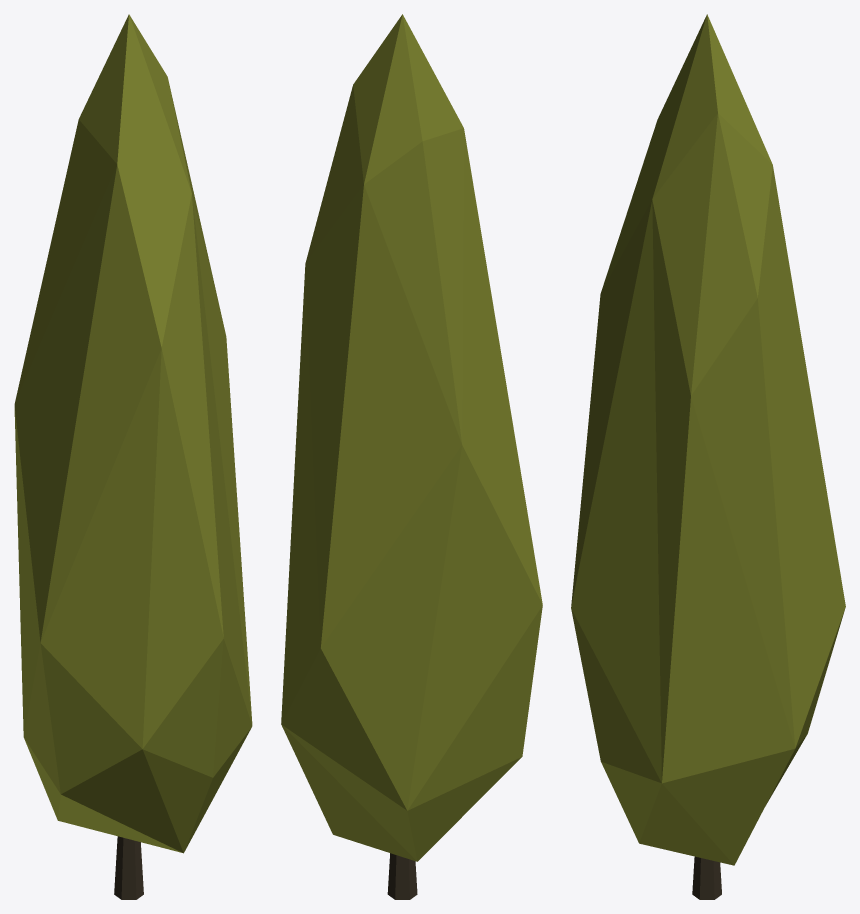
File: roman_tree_cyprus_med.fbx
3 renders of one model, left to right at view 1: azimuth 30°, elevation 25°; view 2: azimuth 150°, elevation 25°; view 3: azimuth 270°, elevation 25°, orthographic.
Visible parts, largest first — view 1: Icosphere; view 2: Icosphere; view 3: Icosphere.
Part boxes in pixels (<box>): Icosphere: <box>14,14,252,899</box>; Icosphere: <box>281,14,542,899</box>; Icosphere: <box>571,14,845,899</box>.
Bounding box in the file's own units: 1.36 × 5.31 × 1.5.
